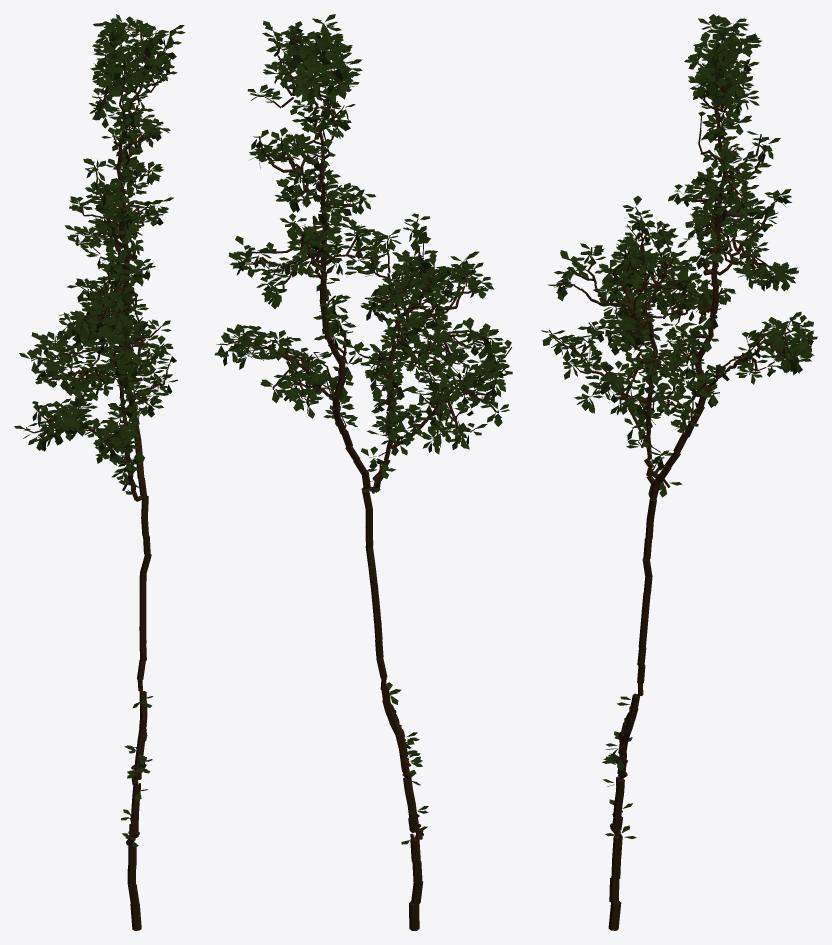
Rendered from tree_279.obj.
3 renders of one model, left to right at view 1: azimuth 30°, elevation 25°; view 2: azimuth 150°, elevation 25°; view 3: azimuth 270°, elevation 25°, orthographic. The views are drawn at different scales.
Visible parts, largest first — view 1: Leaves, TrunkAndBranches; view 2: Leaves, TrunkAndBranches; view 3: Leaves, TrunkAndBranches.
Part boxes in pixels (box(x1,y1,x2,y2)): Leaves: box(14, 14, 185, 847); TrunkAndBranches: box(26, 26, 172, 930); Leaves: box(214, 14, 512, 844); TrunkAndBranches: box(222, 30, 511, 930); Leaves: box(541, 14, 817, 838); TrunkAndBranches: box(549, 23, 807, 930).
Size of the model in its own units: 5.26 by 21.25 by 5.73.
